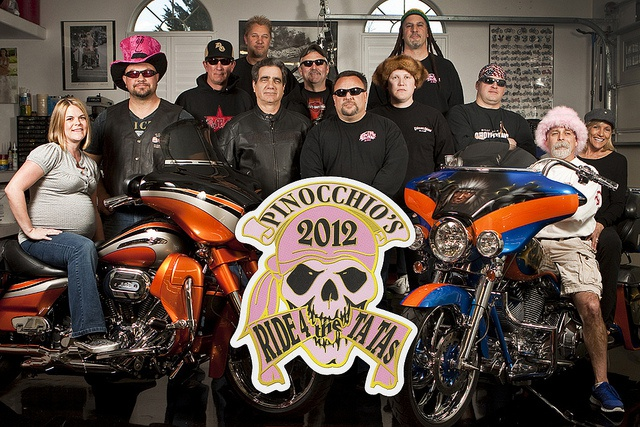non-vehicle: (1, 158, 319, 417), (378, 158, 621, 426)
